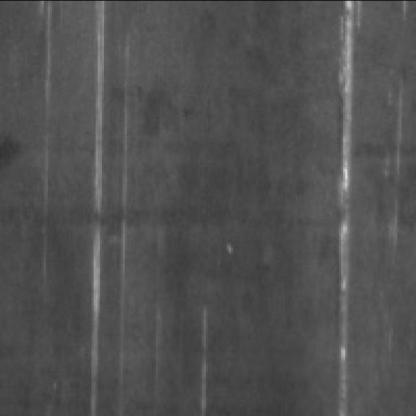scratches: (326, 4, 364, 364), (75, 10, 106, 416)
